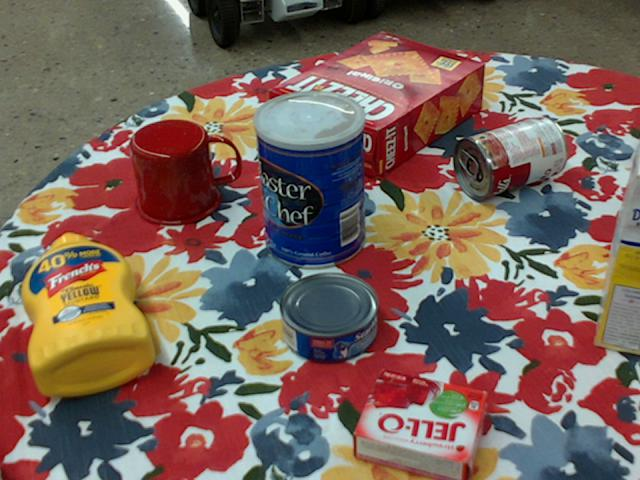cracker_box: (271, 33, 486, 179)
gelatin_box: (355, 370, 493, 479)
large_marker: (631, 142, 639, 165)
master_chef_can: (252, 89, 365, 269)
mug: (130, 119, 239, 226)
mustard_bottle: (22, 233, 155, 395)
sugar_box: (596, 151, 639, 355)
tomato_soup_can: (454, 114, 568, 199)
tuna_fish_can: (279, 273, 379, 364)
